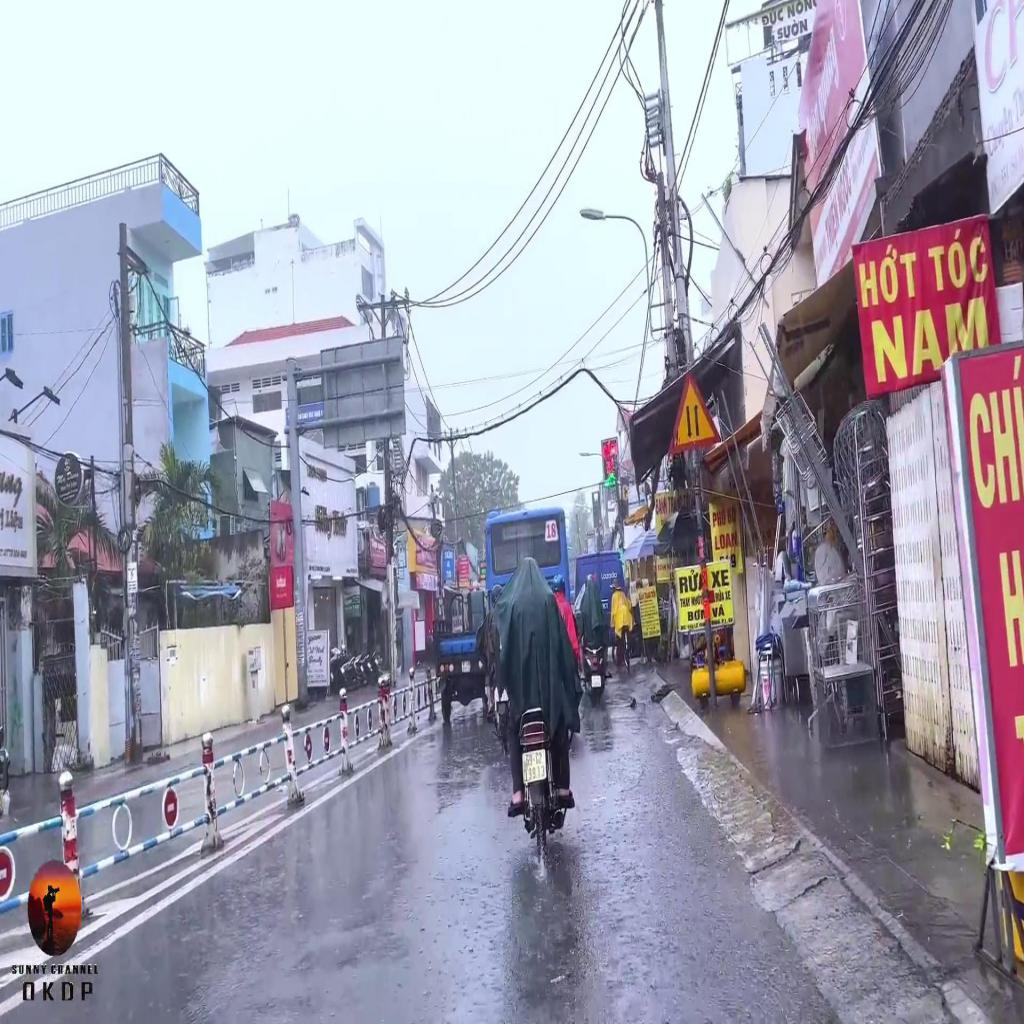khac: (665, 365, 723, 461)
